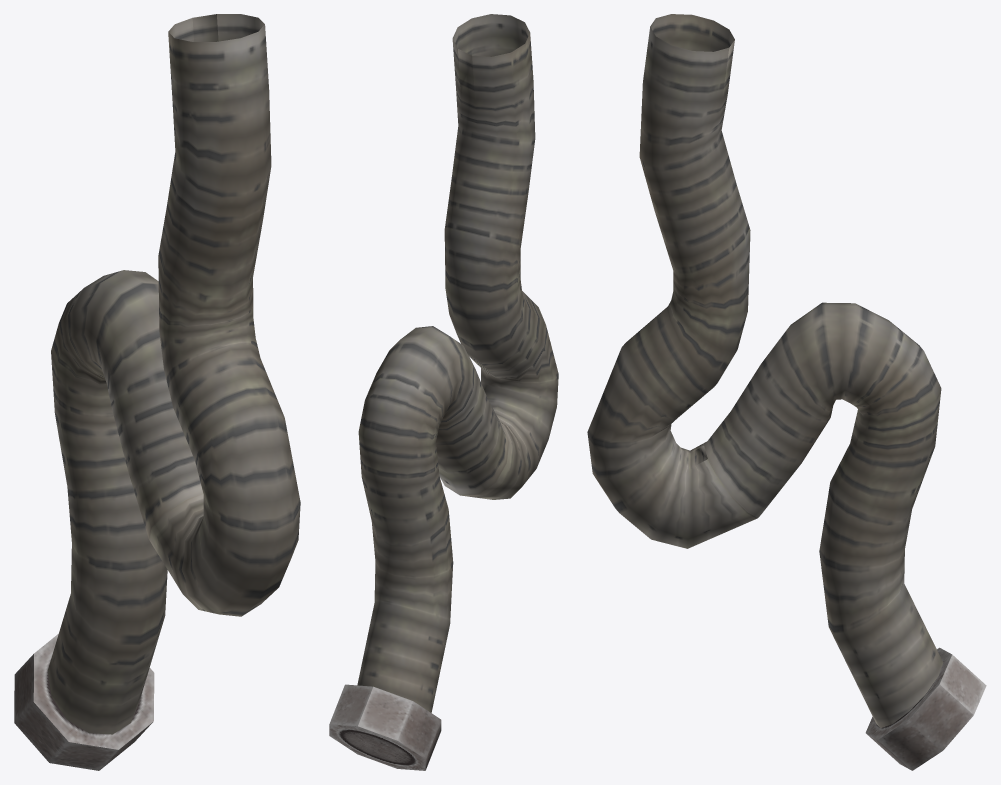
File: NM_ThinTube_Plastic_02.fbx
The picture shows the model from 3 angles, left to right: view 1: azimuth 30°, elevation 25°; view 2: azimuth 150°, elevation 25°; view 3: azimuth 270°, elevation 25°; orthographic projection. The views are drawn at different scales.
Visible parts, largest first — view 1: Object204; view 2: Object204; view 3: Object204.
Boxes of the visible parts, left/top/right/bottom form: Object204: left=14, top=14, right=300, bottom=770; Object204: left=329, top=14, right=558, bottom=770; Object204: left=587, top=14, right=986, bottom=770.
Size of the model in its own units: 10.37 by 68.75 by 33.71.
